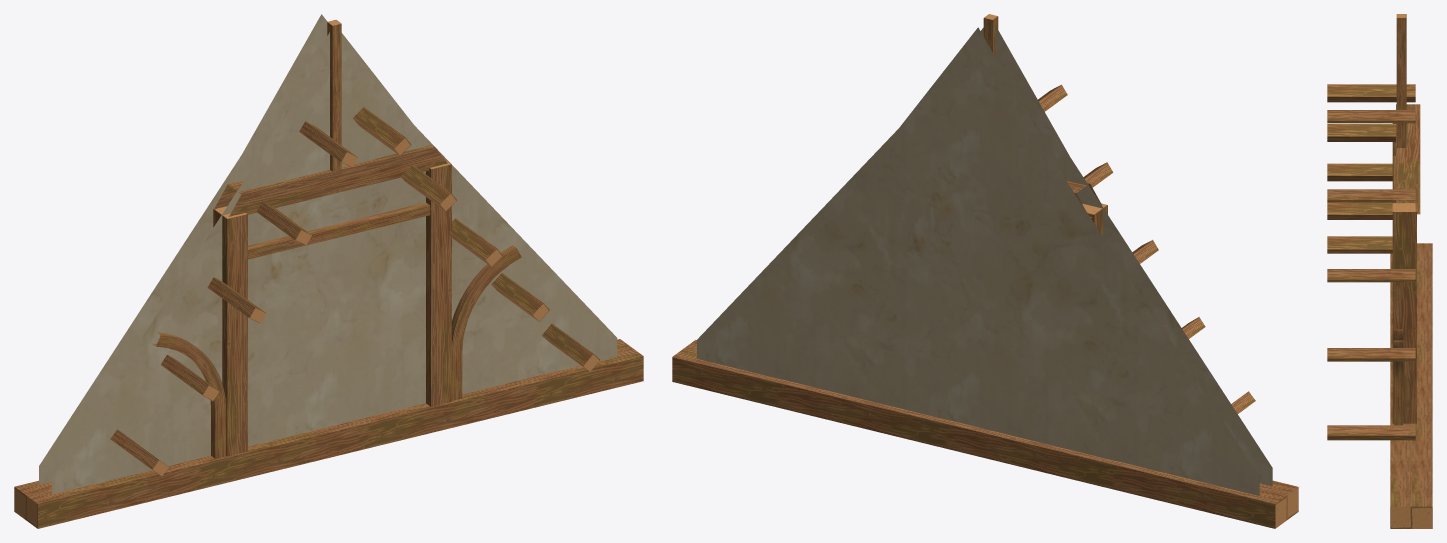
The model's file is Roof_Front_Brick6.glb.
3 renders of one model, left to right at view 1: azimuth 30°, elevation 25°; view 2: azimuth 150°, elevation 25°; view 3: azimuth 270°, elevation 25°, orthographic. The views are drawn at different scales.
Visible parts, largest first — view 1: Roof_Front_Brick6; view 2: Roof_Front_Brick6; view 3: Roof_Front_Brick6.
Part boxes in pixels (<box>): Roof_Front_Brick6: <box>14,14,643,528</box>; Roof_Front_Brick6: <box>672,14,1298,528</box>; Roof_Front_Brick6: <box>1327,14,1432,528</box>.
Size of the model in its own units: 6.69 by 4.52 by 1.13.
2 materials, 2 textured.
